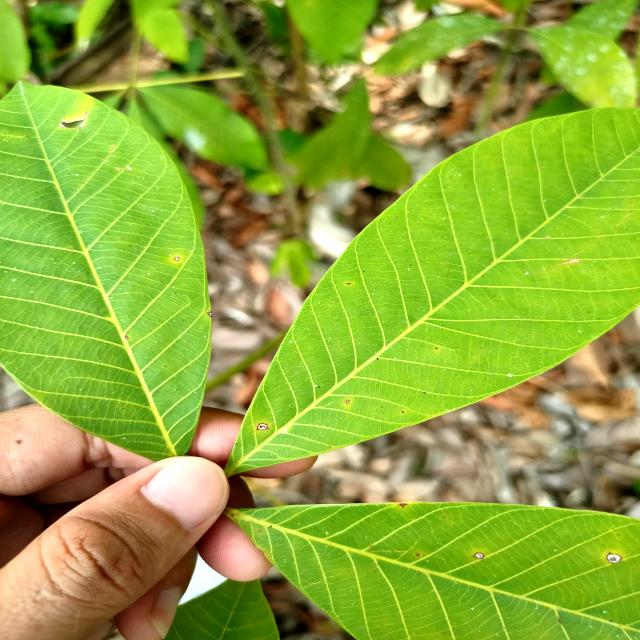Colletotrichum: (606, 552, 622, 564), (256, 423, 268, 430), (472, 552, 484, 559), (174, 257, 180, 261), (416, 553, 420, 556), (346, 400, 350, 402)
